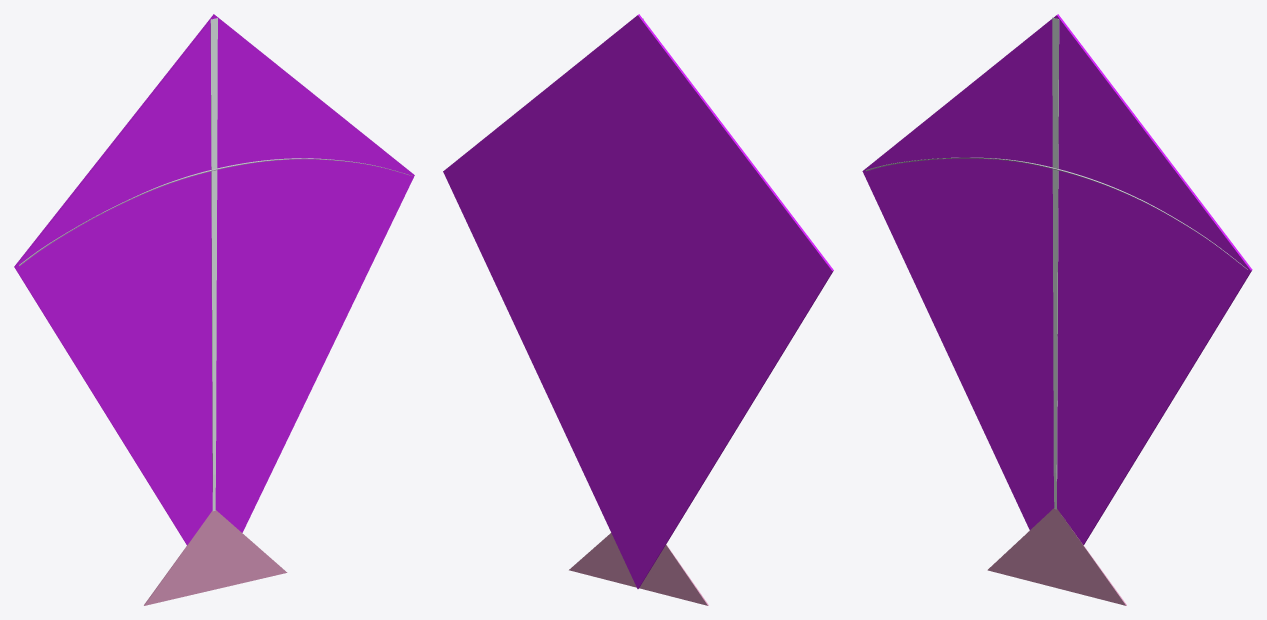
File: beatiful_kite__kite_festival.glb
3 renders of one model, left to right at view 1: azimuth 30°, elevation 25°; view 2: azimuth 150°, elevation 25°; view 3: azimuth 330°, elevation 25°, orthographic.
Visible parts, largest first — view 1: Kite_0; view 2: Kite_0; view 3: Kite_0.
Boxes of the visible parts, bbox=[...] form: Kite_0: bbox=[14, 14, 414, 605]; Kite_0: bbox=[443, 14, 833, 605]; Kite_0: bbox=[862, 14, 1252, 605].
Bounding box in the file's own units: 2.83 × 3.94 × 0.0807.
